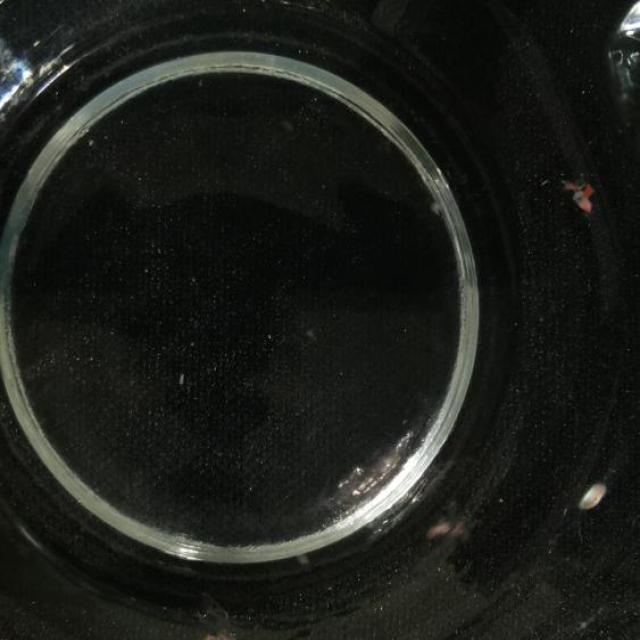fiber: (548, 169, 601, 228), (191, 617, 248, 639)
